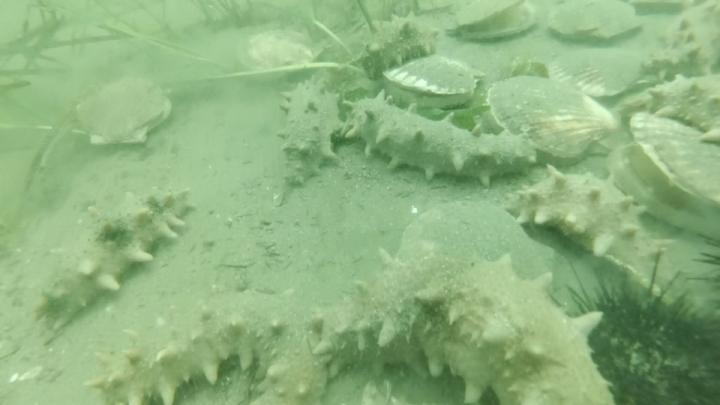echinus: (583, 268, 720, 405)
holothurian: (306, 240, 621, 405), (506, 168, 706, 330), (85, 278, 334, 405), (31, 182, 201, 347), (344, 89, 541, 191), (275, 70, 344, 191), (362, 11, 440, 82), (649, 73, 720, 147), (642, 18, 705, 85)
scallop: (607, 108, 720, 244), (482, 74, 624, 165), (394, 199, 560, 266), (76, 74, 174, 152), (381, 54, 482, 110), (547, 48, 651, 100), (238, 25, 326, 84), (546, 1, 645, 49), (443, 1, 540, 46)
